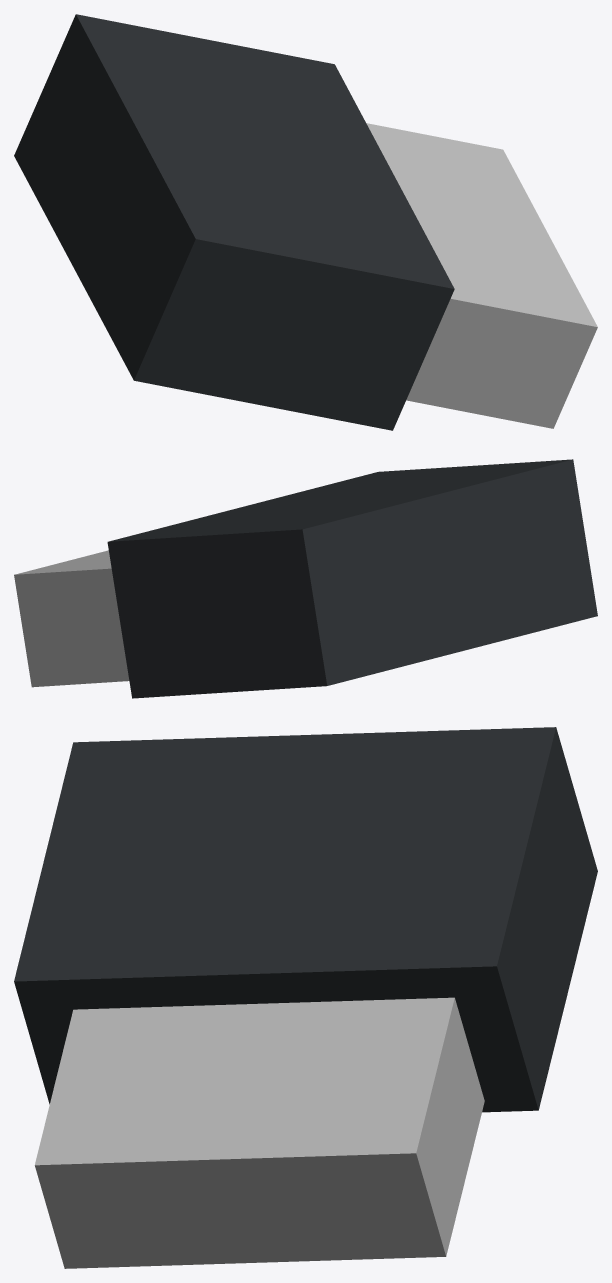
File: PROV2shteker.fbx
3 renders of one model, top to bottom at view 1: azimuth 30°, elevation 25°; view 2: azimuth 150°, elevation 25°; view 3: azimuth 270°, elevation 25°, orthographic. The views are drawn at different scales.
Visible parts, largest first — view 1: Circle.002; view 2: Circle.002; view 3: Circle.002.
Part boxes in pixels (left/top/right/bottom): Circle.002: left=14, top=14, right=597, bottom=430; Circle.002: left=14, top=459, right=597, bottom=698; Circle.002: left=14, top=727, right=597, bottom=1268.
Bounding box in the file's own units: 2.49 × 1.57 × 2.15.
